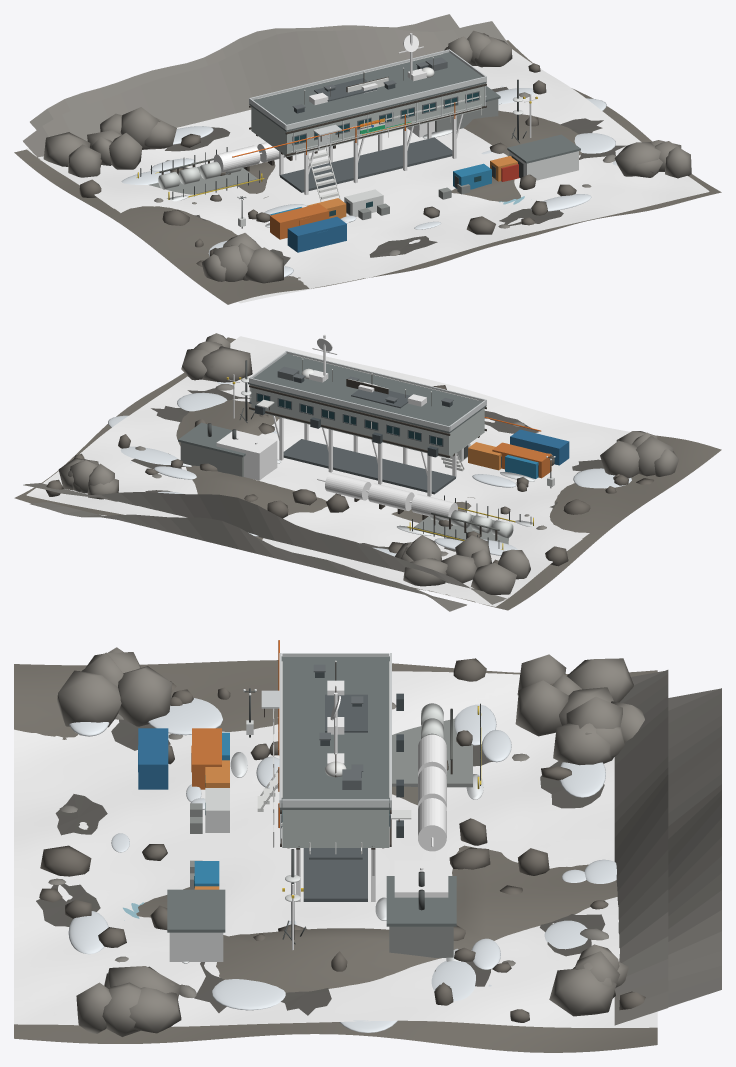
File: maitri-station.glb
The picture shows the model from 3 angles, top to bottom: view 1: azimuth 30°, elevation 25°; view 2: azimuth 150°, elevation 25°; view 3: azimuth 270°, elevation 25°; orthographic projection. The views are drawn at different scales.
Parts seen in each view (by area): view 1: MAITRI_CONTINUOUS_SNOW_TERRAIN, ANTARCTIC_SNOW_RIDGE_01, TERRAIN-001_SCHIRMACHER_OASIS, BLD-001_ROOF, ANTARCTIC_SNOW_RIDGE_02, BLD-001_MAIN_MAITRI_BUILDING, STR-LOWER_SERVICE_PLATFORM, LOG-002_CONTAINER_BLUE, ROOF-PARAPET-FRONT, LOG-003_WORKSHOP_ROOF, TERRAIN-HILL-23, LOG-001_CONTAINER_ORANGE (+26 smaller); view 2: MAITRI_CONTINUOUS_SNOW_TERRAIN, TERRAIN-001_SCHIRMACHER_OASIS, ANTARCTIC_SNOW_RIDGE_01.001, BLD-001_ROOF, ANTARCTIC_SNOW_RIDGE_02.001, BLD-001_MAIN_MAITRI_BUILDING, STR-LOWER_SERVICE_PLATFORM, ENE-001_GENERATOR_BUILDING, TERRAIN-HILL-19, ROOF-PARAPET-BACK, PWR-001_GENERATOR_BUILDING, LOG-002_CONTAINER_BLUE (+29 smaller); view 3: MAITRI_CONTINUOUS_SNOW_TERRAIN, TERRAIN-001_SCHIRMACHER_OASIS, ANTARCTIC_SNOW_RIDGE_02, ANTARCTIC_SNOW_RIDGE_01, BLD-001_ROOF, BLD-001_MAIN_MAITRI_BUILDING, STR-LOWER_SERVICE_PLATFORM, TERRAIN-HILL-23, FUEL-001_FARM_BASE, LOG-003_WORKSHOP_ROOF, TERRAIN-HILL-24, PWR-001_GENERATOR_ROOF (+46 smaller).
Part boxes in pixels (x1=…): MAITRI_CONTINUOUS_SNOW_TERRAIN: x1=27, y1=49, x2=709, y2=302; ANTARCTIC_SNOW_RIDGE_01: x1=23, y1=21, x2=509, y2=159; TERRAIN-001_SCHIRMACHER_OASIS: x1=14, y1=40, x2=721, y2=304; BLD-001_ROOF: x1=249, y1=52, x2=486, y2=131; ANTARCTIC_SNOW_RIDGE_02: x1=30, y1=14, x2=459, y2=129; BLD-001_MAIN_MAITRI_BUILDING: x1=251, y1=84, x2=484, y2=156; STR-LOWER_SERVICE_PLATFORM: x1=280, y1=137, x2=452, y2=192; LOG-002_CONTAINER_BLUE: x1=287, y1=216, x2=346, y2=252; ROOF-PARAPET-FRONT: x1=285, y1=76, x2=486, y2=130; LOG-003_WORKSHOP_ROOF: x1=507, y1=134, x2=580, y2=163; TERRAIN-HILL-23: x1=245, y1=247, x2=283, y2=283; LOG-001_CONTAINER_ORANGE: x1=270, y1=203, x2=329, y2=239; MAITRI_CONTINUOUS_SNOW_TERRAIN: x1=26, y1=336, x2=630, y2=606; TERRAIN-001_SCHIRMACHER_OASIS: x1=14, y1=337, x2=721, y2=610; ANTARCTIC_SNOW_RIDGE_01.001: x1=23, y1=485, x2=509, y2=604; BLD-001_ROOF: x1=249, y1=354, x2=486, y2=433; ANTARCTIC_SNOW_RIDGE_02.001: x1=30, y1=504, x2=466, y2=611; BLD-001_MAIN_MAITRI_BUILDING: x1=251, y1=385, x2=484, y2=458; STR-LOWER_SERVICE_PLATFORM: x1=283, y1=439, x2=455, y2=494; ENE-001_GENERATOR_BUILDING: x1=216, y1=430, x2=277, y2=480; TERRAIN-HILL-19: x1=201, y1=346, x2=252, y2=382; ROOF-PARAPET-BACK: x1=249, y1=377, x2=450, y2=431; PWR-001_GENERATOR_BUILDING: x1=180, y1=442, x2=243, y2=476; LOG-002_CONTAINER_BLUE: x1=510, y1=429, x2=569, y2=465; MAITRI_CONTINUOUS_SNOW_TERRAIN: x1=14, y1=671, x2=657, y2=1026; TERRAIN-001_SCHIRMACHER_OASIS: x1=14, y1=660, x2=657, y2=1052; ANTARCTIC_SNOW_RIDGE_02: x1=668, y1=688, x2=721, y2=1006; ANTARCTIC_SNOW_RIDGE_01: x1=614, y1=670, x2=668, y2=1024; BLD-001_ROOF: x1=280, y1=656, x2=391, y2=809; BLD-001_MAIN_MAITRI_BUILDING: x1=282, y1=810, x2=389, y2=847; STR-LOWER_SERVICE_PLATFORM: x1=303, y1=848, x2=367, y2=901; TERRAIN-HILL-23: x1=57, y1=670, x2=121, y2=727; FUEL-001_FARM_BASE: x1=392, y1=718, x2=472, y2=787; LOG-003_WORKSHOP_ROOF: x1=167, y1=889, x2=225, y2=932; TERRAIN-HILL-24: x1=118, y1=666, x2=172, y2=726; PWR-001_GENERATOR_ROOF: x1=386, y1=876, x2=456, y2=926.
Bounding box in the file's own units: 80.1 × 21.94 × 66.
